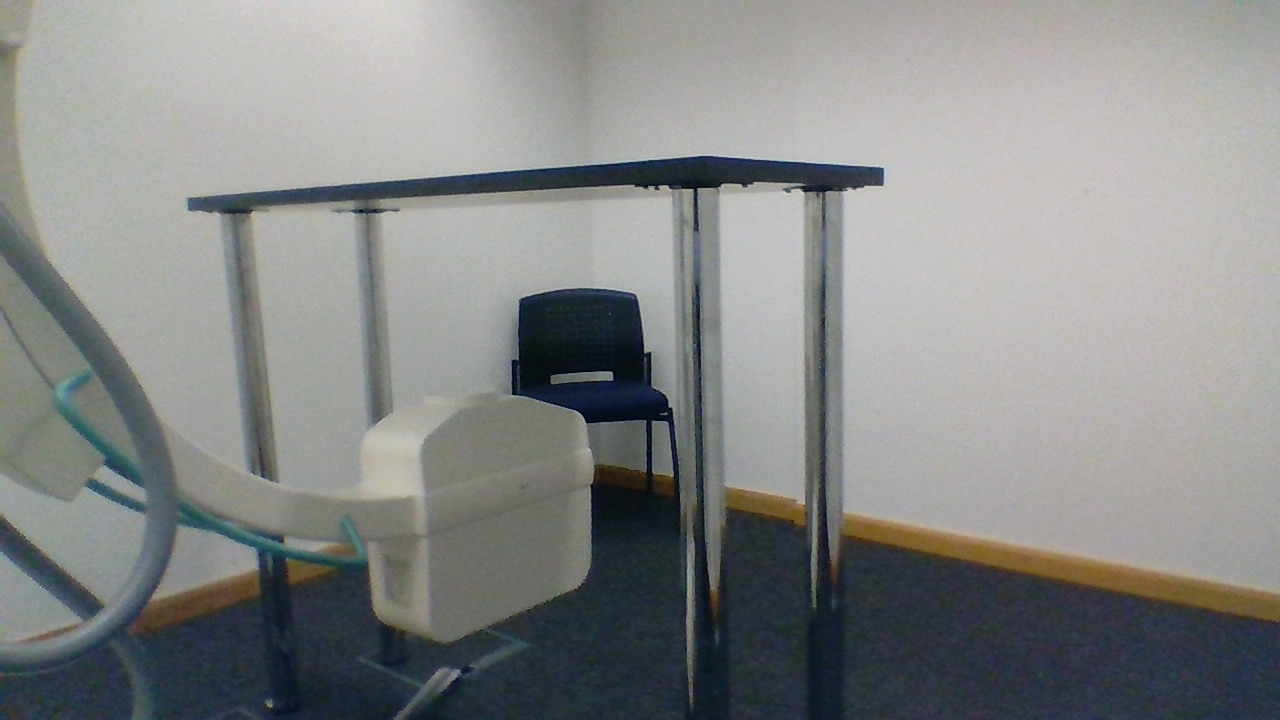carmDOWN: (356, 386, 592, 498)
